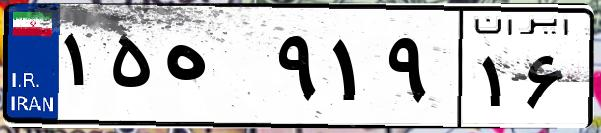1: (330, 28, 385, 110), (57, 26, 110, 100), (475, 38, 525, 113)
5: (110, 28, 158, 98)
6: (525, 38, 570, 115)
9: (270, 28, 330, 110), (385, 28, 445, 110)
ه: (158, 20, 270, 120)
